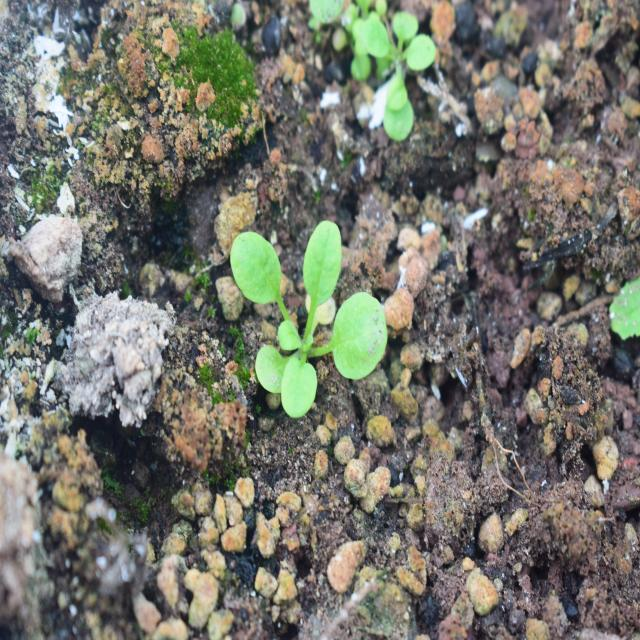Shepherd_Purse: (228, 204, 398, 434)
